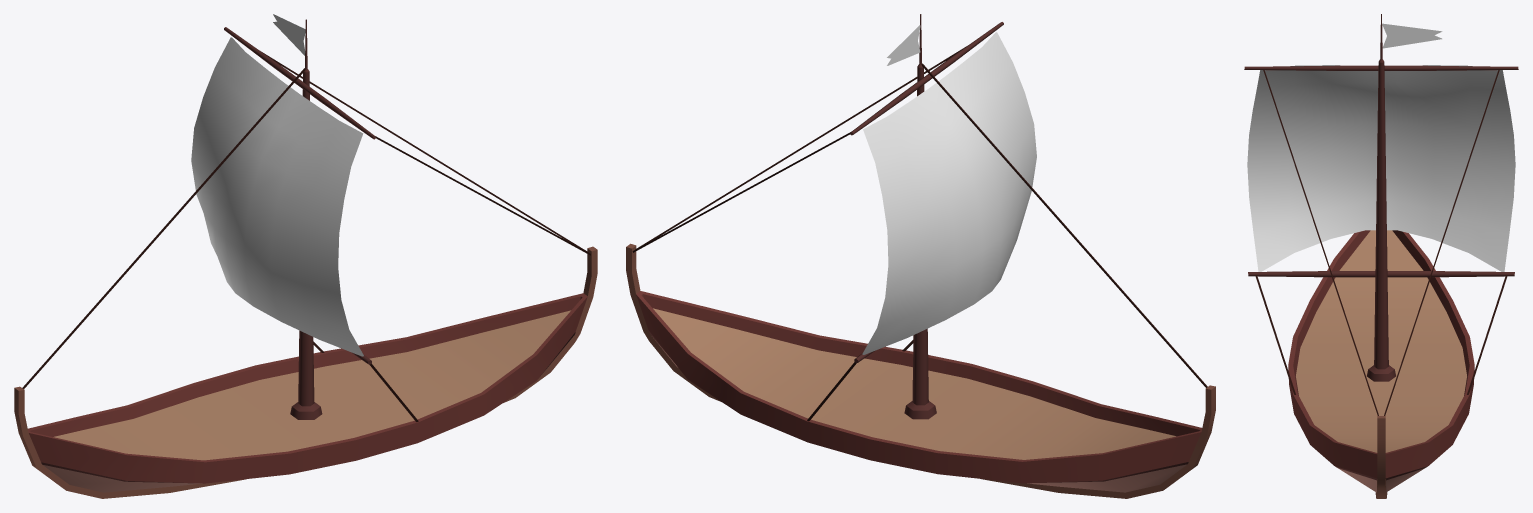
The model's file is boatSmall.fbx.
The picture shows the model from 3 angles, left to right: view 1: azimuth 30°, elevation 25°; view 2: azimuth 150°, elevation 25°; view 3: azimuth 270°, elevation 25°; orthographic projection. The views are drawn at different scales.
Visible parts, largest first — view 1: boatSmall; view 2: boatSmall; view 3: boatSmall.
Boxes of the visible parts, box(x1,y1,x2,y2) form: boatSmall: box(14, 14, 597, 498); boatSmall: box(626, 14, 1215, 498); boatSmall: box(1244, 14, 1518, 498).
Bounding box in the file's own units: 14.44 × 10.52 × 6.45.
2 materials, 1 textured.
